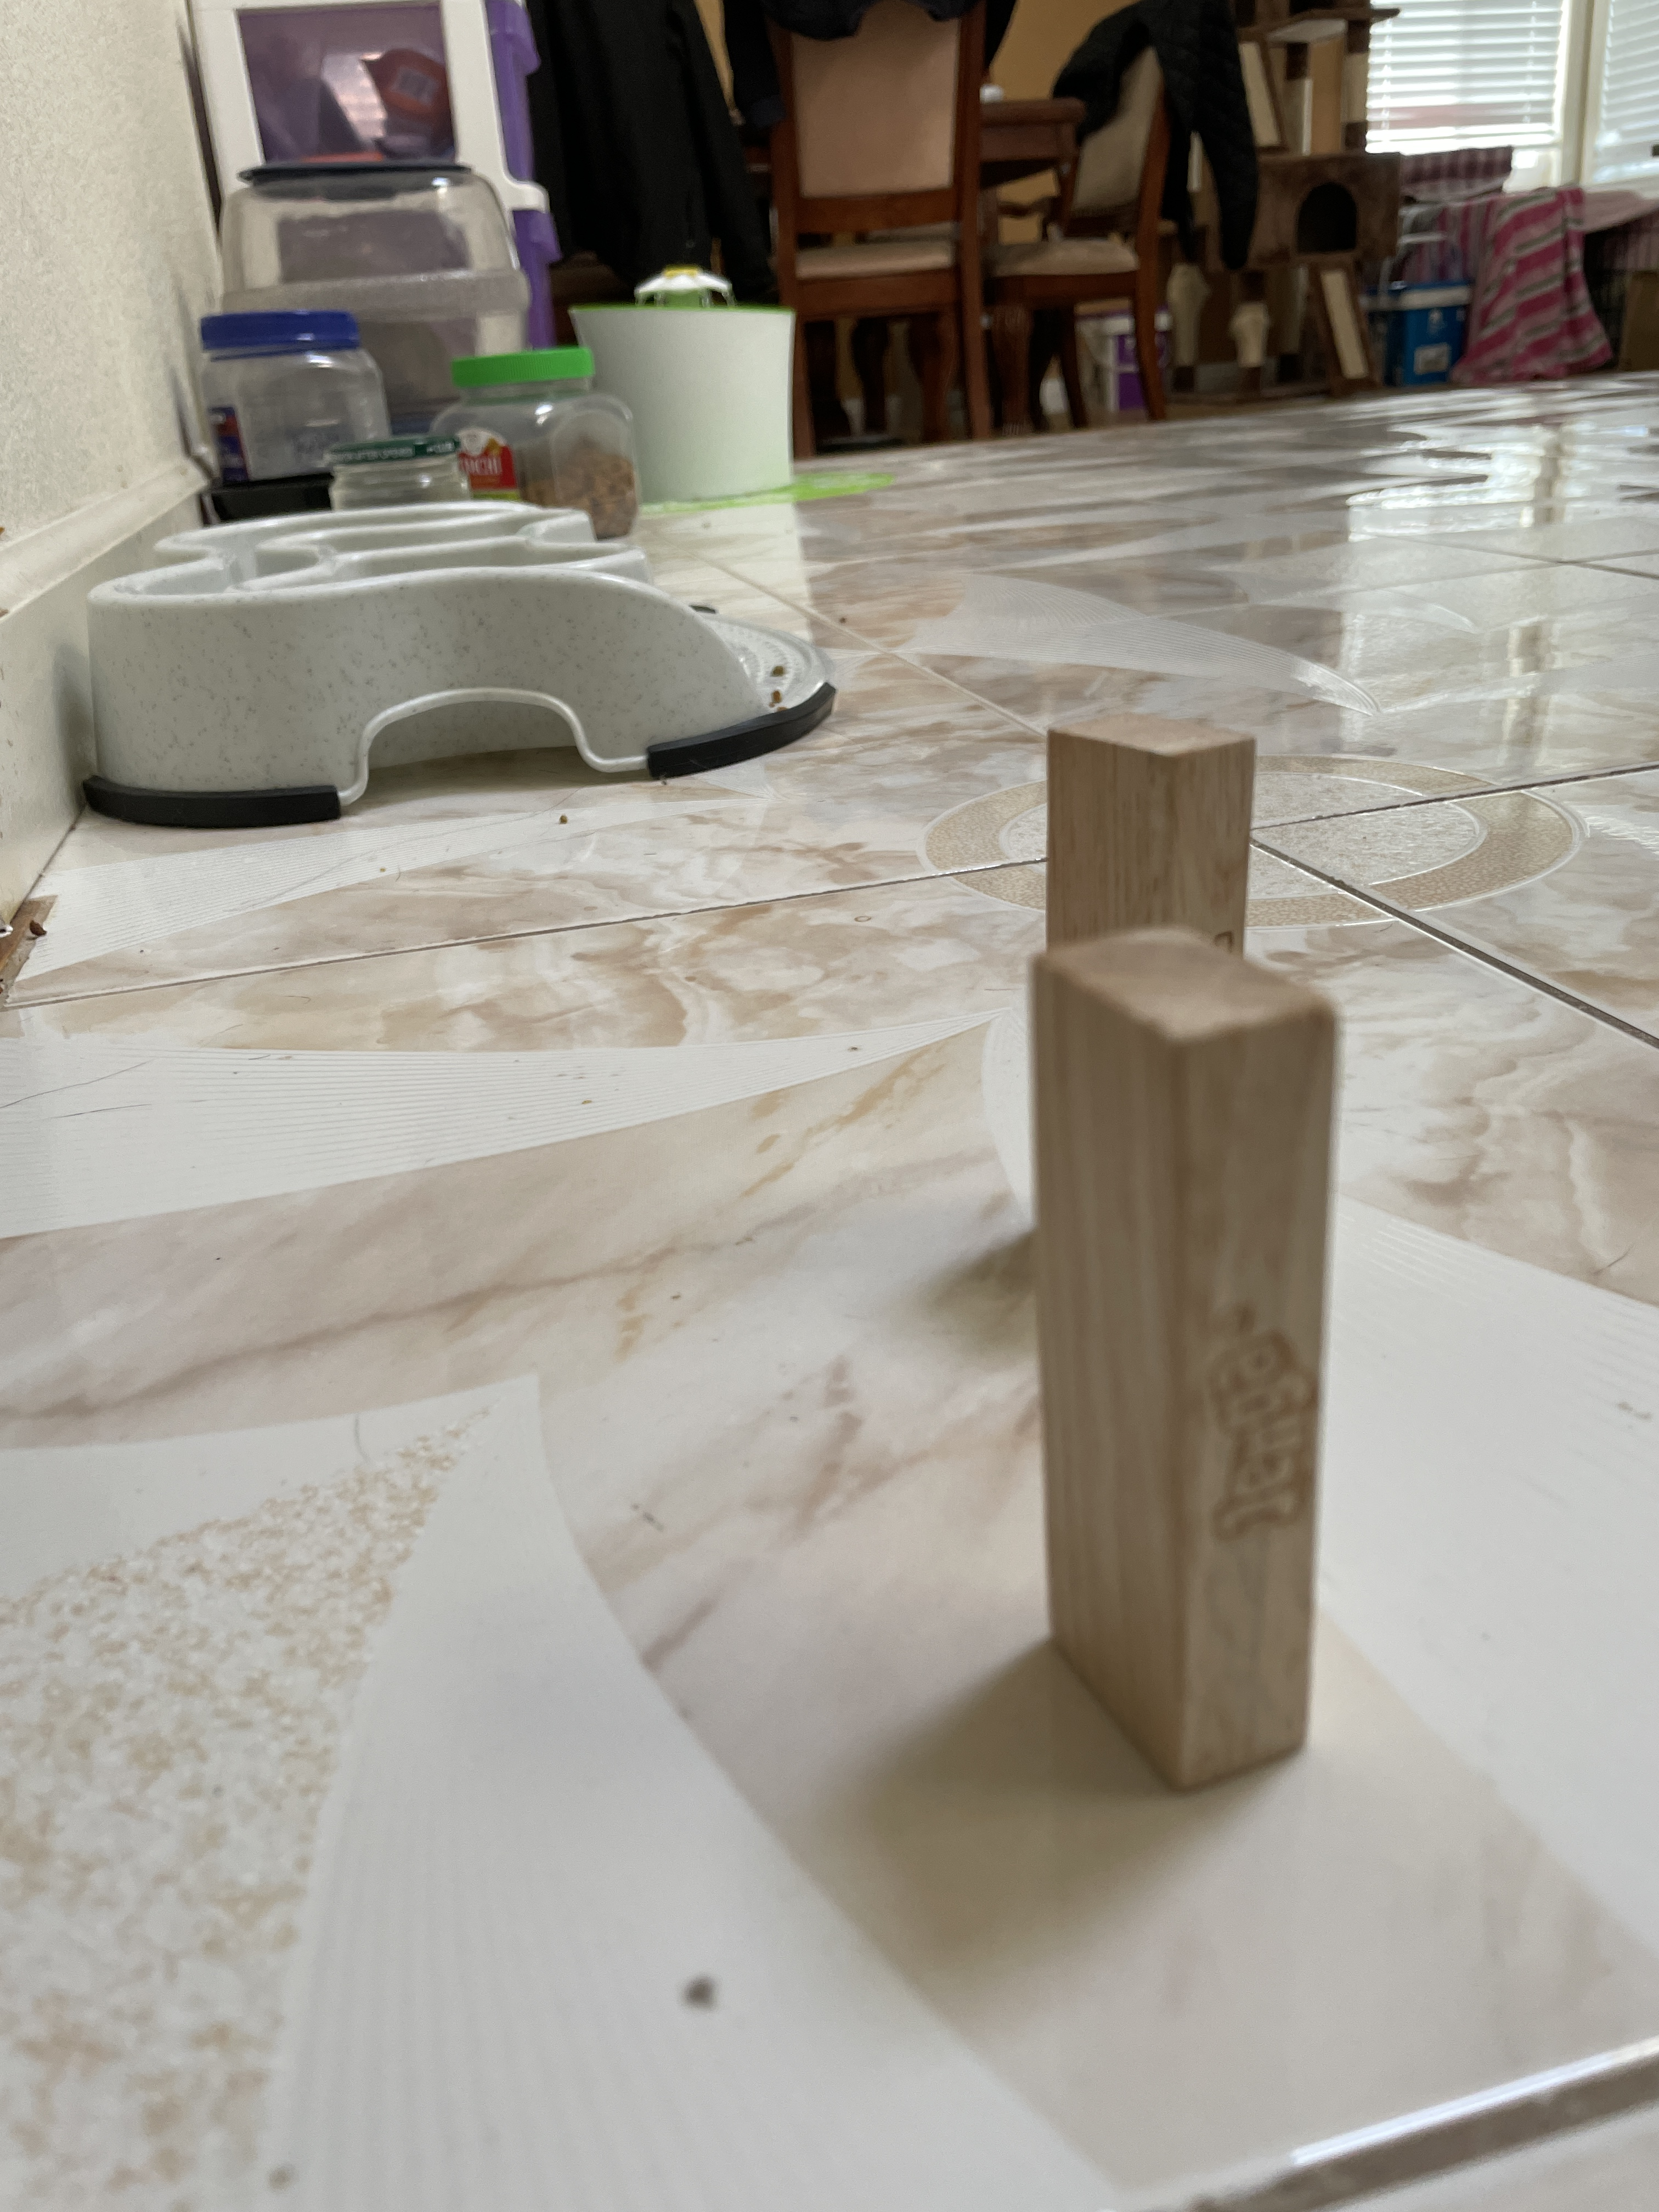jenga: (1030, 948, 1319, 1750), (1053, 723, 1251, 953)
